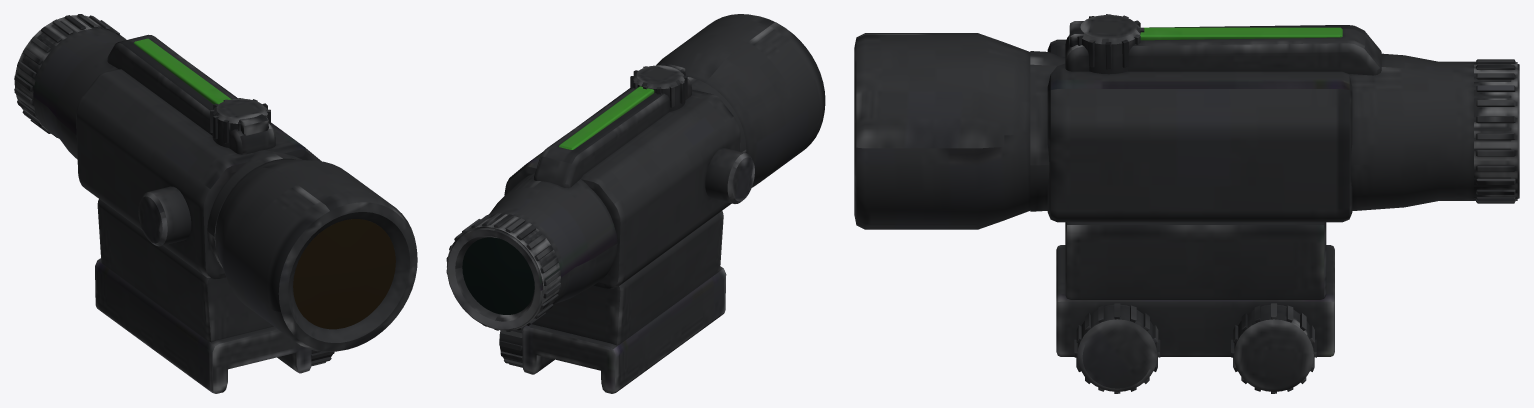
Rendered from scope_4x.glb.
3 renders of one model, left to right at view 1: azimuth 30°, elevation 25°; view 2: azimuth 150°, elevation 25°; view 3: azimuth 270°, elevation 25°, orthographic. The views are drawn at different scales.
Visible parts, largest first — view 1: body, lens_front; view 2: body, lens; view 3: body.
Boxes of the visible parts, x1,y1,x2,y2 form: body: [14, 14, 417, 393]; lens_front: [293, 219, 395, 329]; body: [446, 14, 825, 393]; lens: [462, 237, 534, 314]; body: [854, 14, 1519, 393].
Bounding box in the file's own units: 0.0543 × 0.0814 × 0.153.
Materials: 3 (1 with a texture image).
